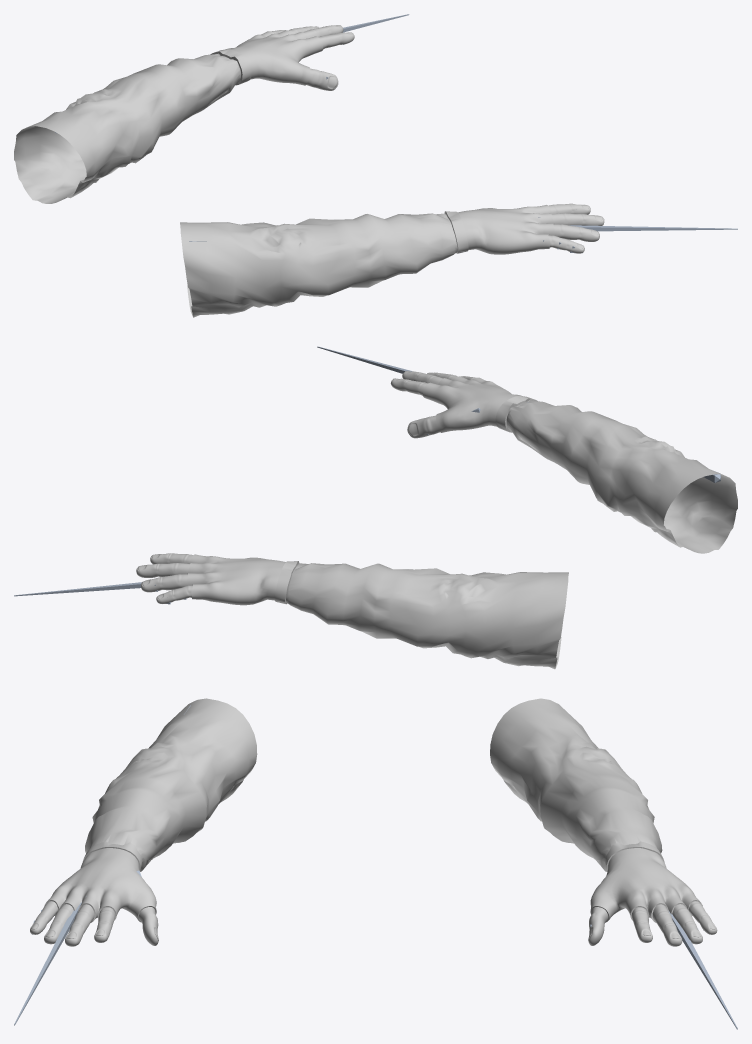
The model's file is Hands.obj.
3 renders of one model, top to bottom at view 1: azimuth 30°, elevation 25°; view 2: azimuth 150°, elevation 25°; view 3: azimuth 270°, elevation 25°, orthographic. The views are drawn at different scales.
Parts seen in each view (by area): view 1: Hands, Bone21; view 2: Hands, Bone03; view 3: Hands, Bone21, Bone03.
Boxes of the visible parts, left/top/right/bottom form: Hands: left=14, top=25, right=604, bottom=317; Bone21: left=569, top=225, right=737, bottom=231; Hands: left=136, top=371, right=737, bottom=669; Bone03: left=14, top=582, right=141, bottom=596; Hands: left=30, top=698, right=717, bottom=946; Bone21: left=14, top=902, right=81, bottom=1025; Bone03: left=668, top=910, right=737, bottom=1029.
Size of the model in its own units: 70.54 by 11.43 by 79.47.
